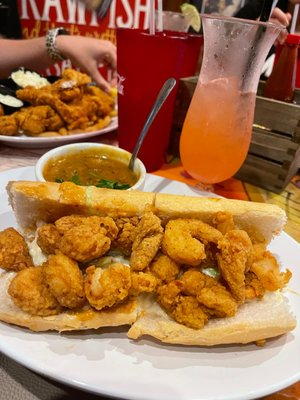salad: (128, 77, 178, 172)
sushi: (36, 143, 146, 192)
